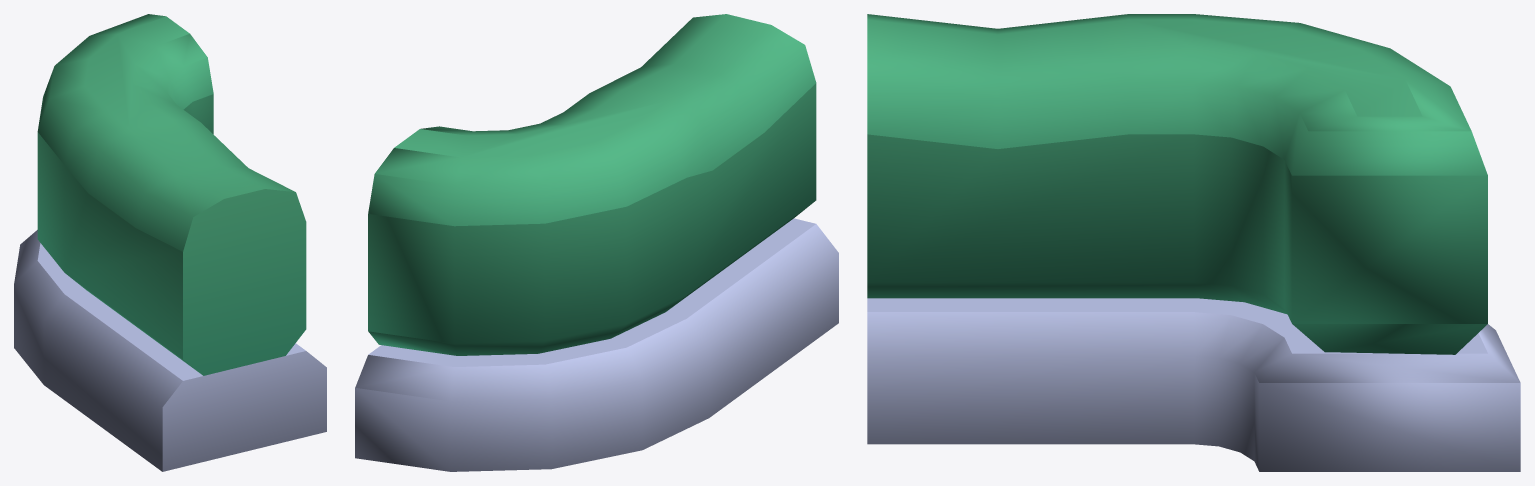
The model's file is Hedge_Large_Edge_reverse.glb.
3 renders of one model, left to right at view 1: azimuth 30°, elevation 25°; view 2: azimuth 150°, elevation 25°; view 3: azimuth 270°, elevation 25°, orthographic. The views are drawn at different scales.
Parts seen in each view (by area): view 1: hedge-large-curved; view 2: hedge-large-curved; view 3: hedge-large-curved.
Part boxes in pixels (left/top/right/bottom): hedge-large-curved: left=14, top=14, right=326, bottom=471; hedge-large-curved: left=355, top=14, right=838, bottom=471; hedge-large-curved: left=867, top=14, right=1520, bottom=471.
Size of the model in its own units: 0.5049 by 0.6 by 1.
Materials: 1 (1 with a texture image).
